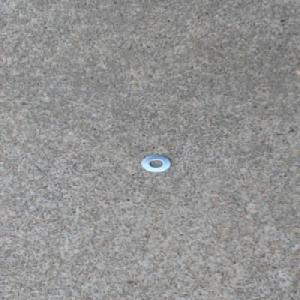Washer: (140, 154, 172, 173)
